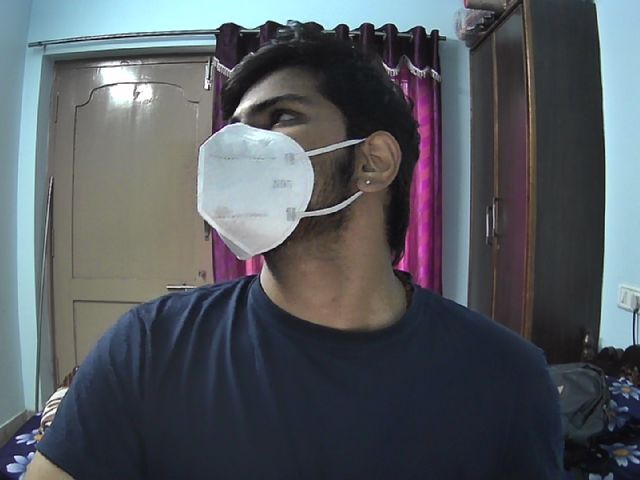Mask: (198, 122, 354, 262)
